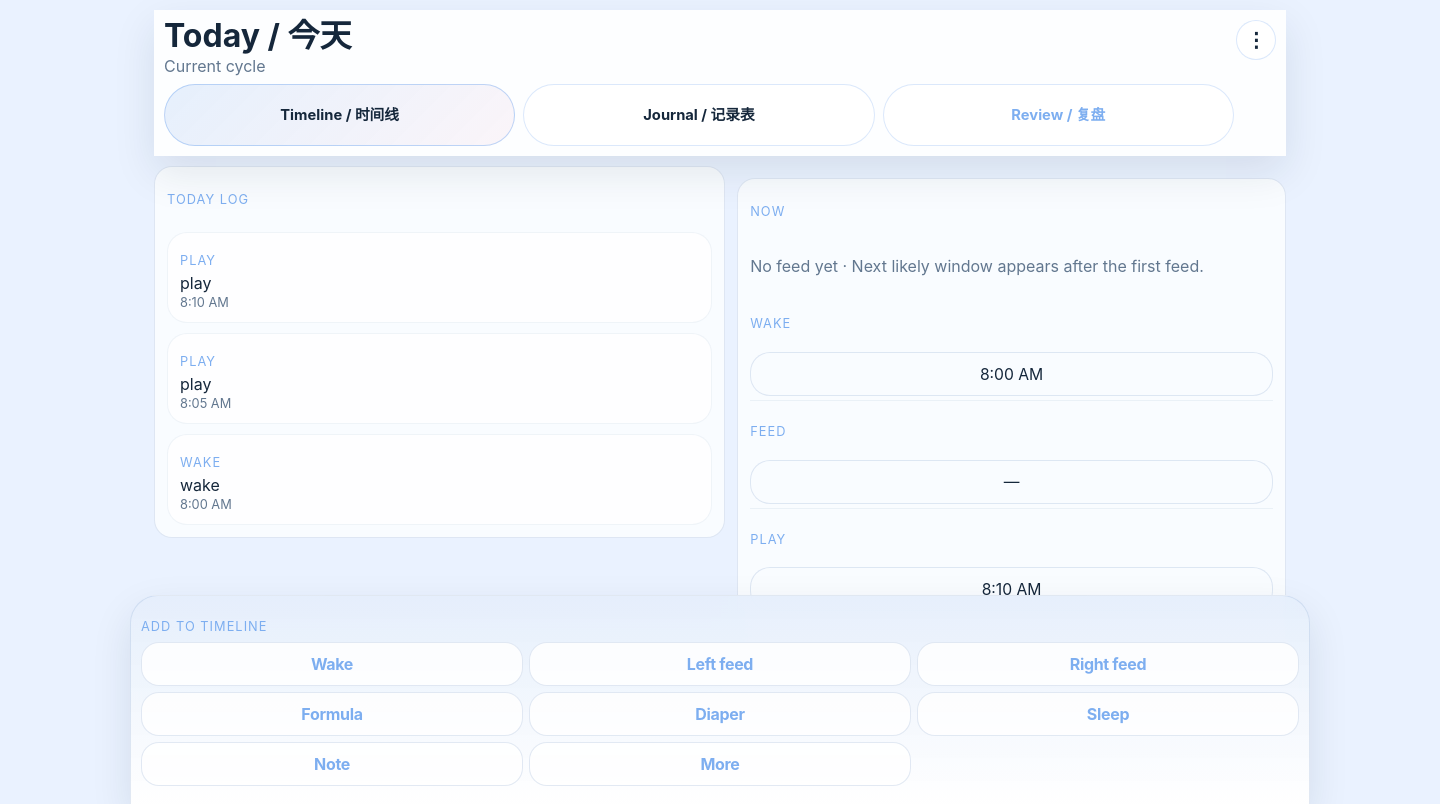
Test: correction merge parity › merge duplicate from Compact updates Timeline and Compact projections
Expected: the element with test id "journal-summary-startOfPlayTime" does not show "—"
Click the heading with test id "today-overflow-menu-toggle": (1256, 40) left=1236, top=20, right=1276, bottom=60
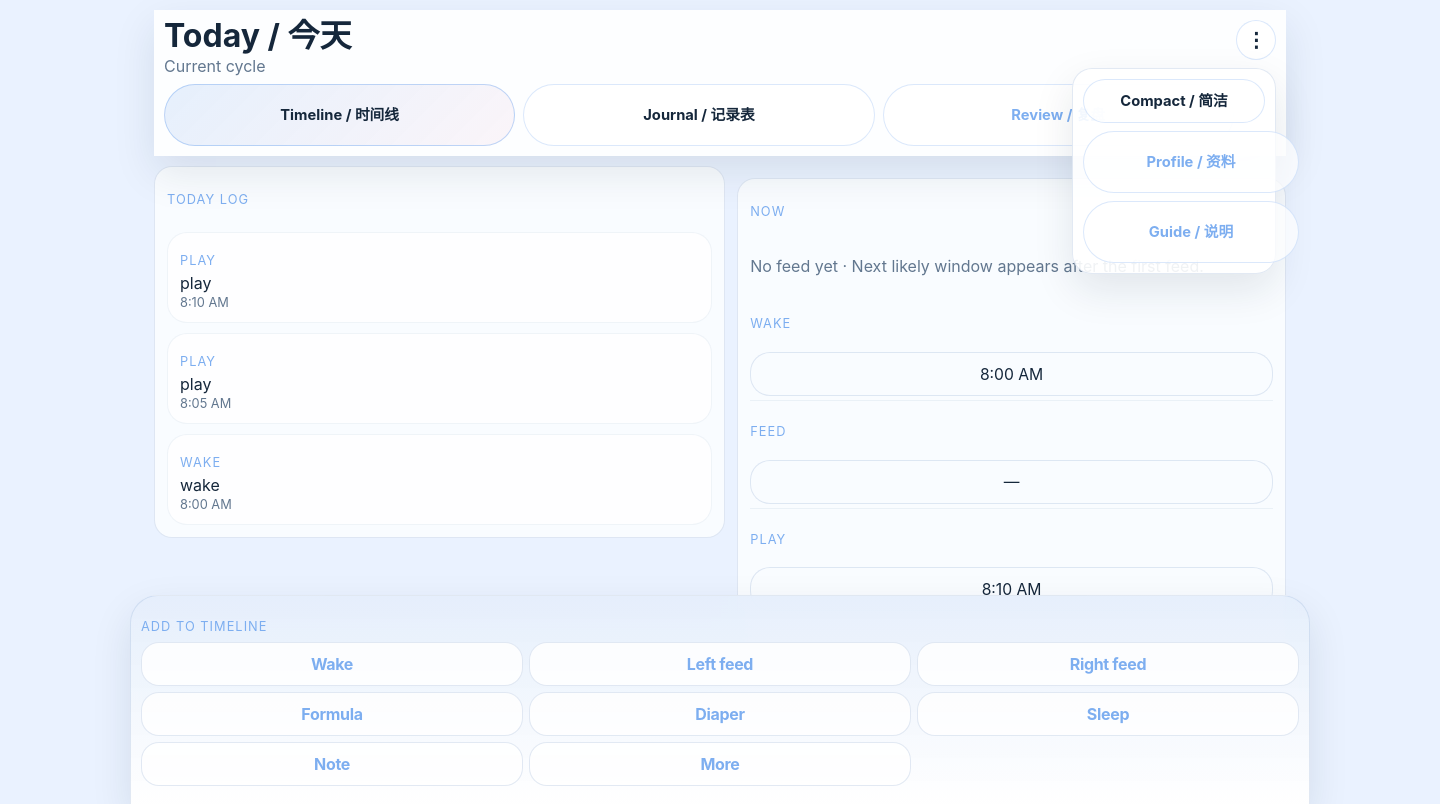
Click the button "Compact / 简洁": (1174, 101) left=1083, top=79, right=1265, bottom=123
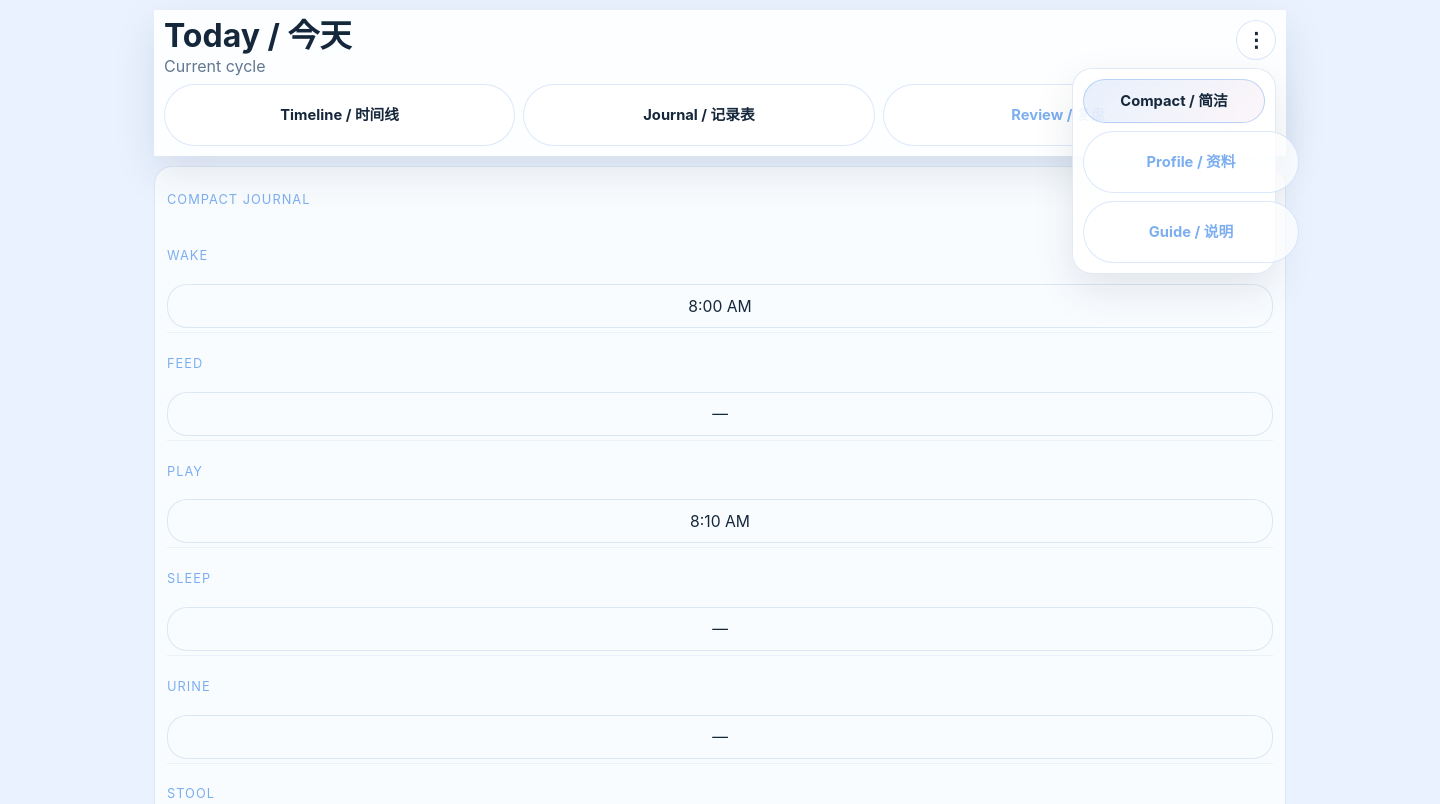
Click the button with test id "journal-summary-startOfPlayTime": (720, 521) left=167, top=499, right=1273, bottom=543
(page scrolled)
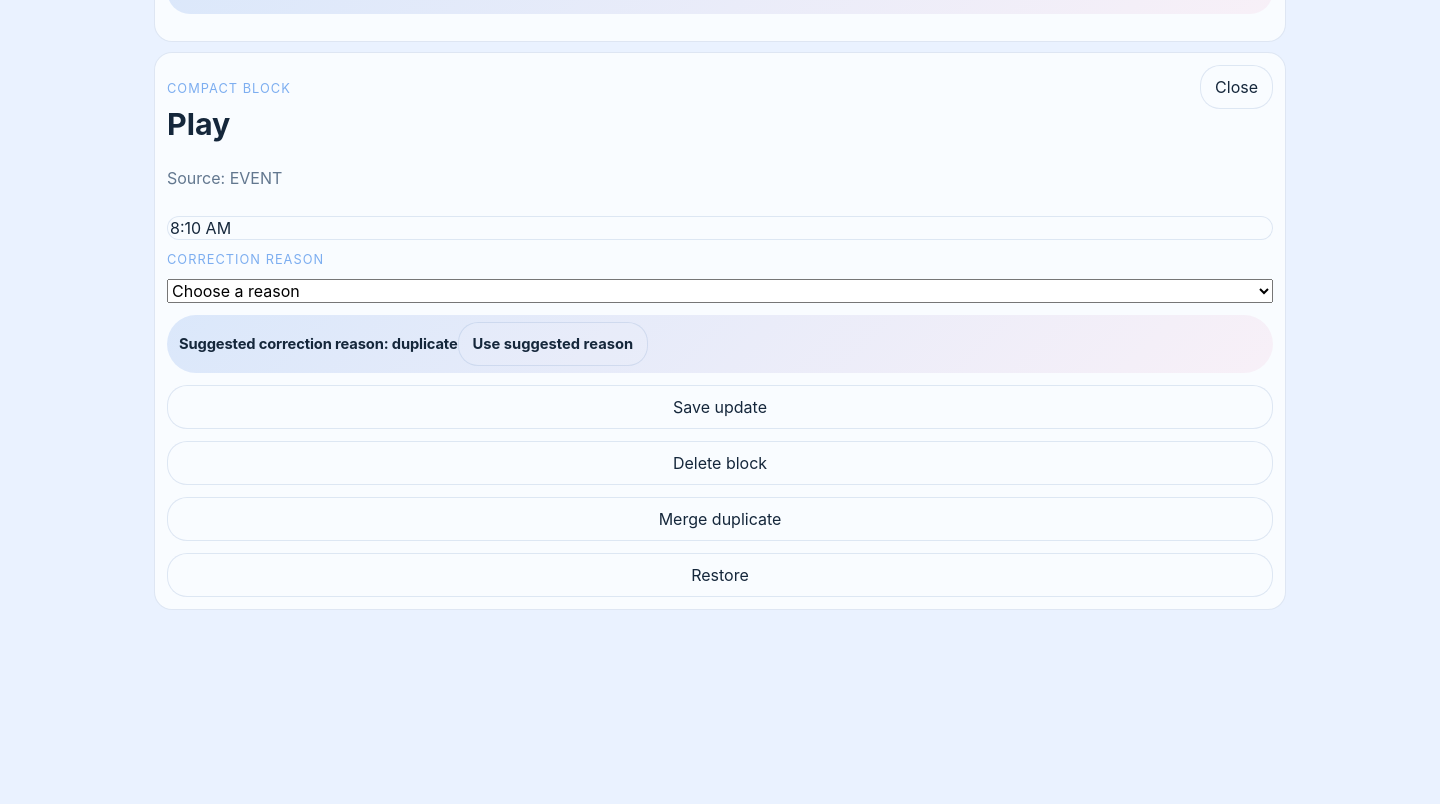
Now the element with test id "compact-block-detail-sheet" is shown, box left=154, top=52, right=1286, bottom=610
Click the button "Merge duplicate": (720, 519) left=167, top=497, right=1273, bottom=541
(page scrolled)
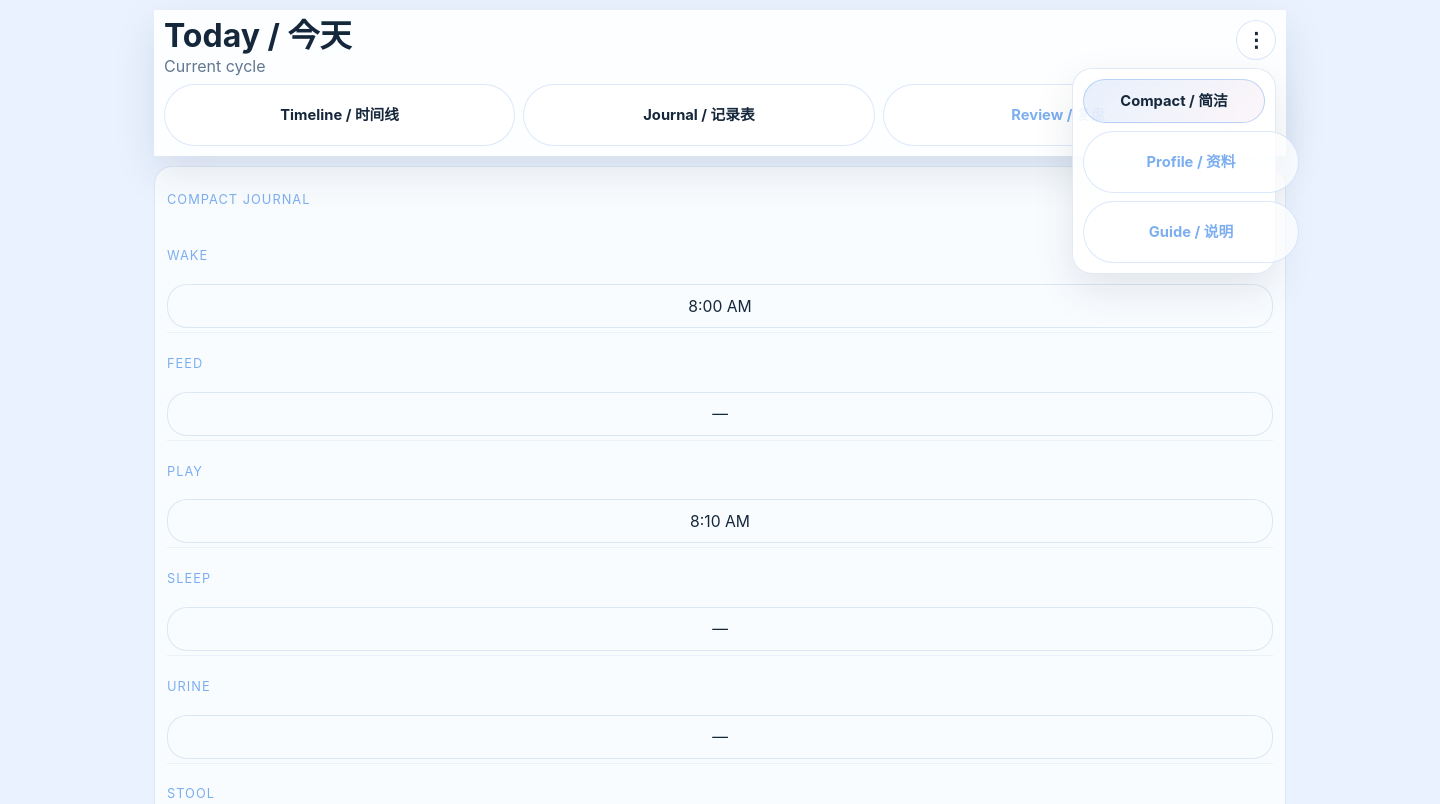
Click the button "Timeline / 时间线": (340, 115) left=164, top=84, right=515, bottom=146
(page scrolled)
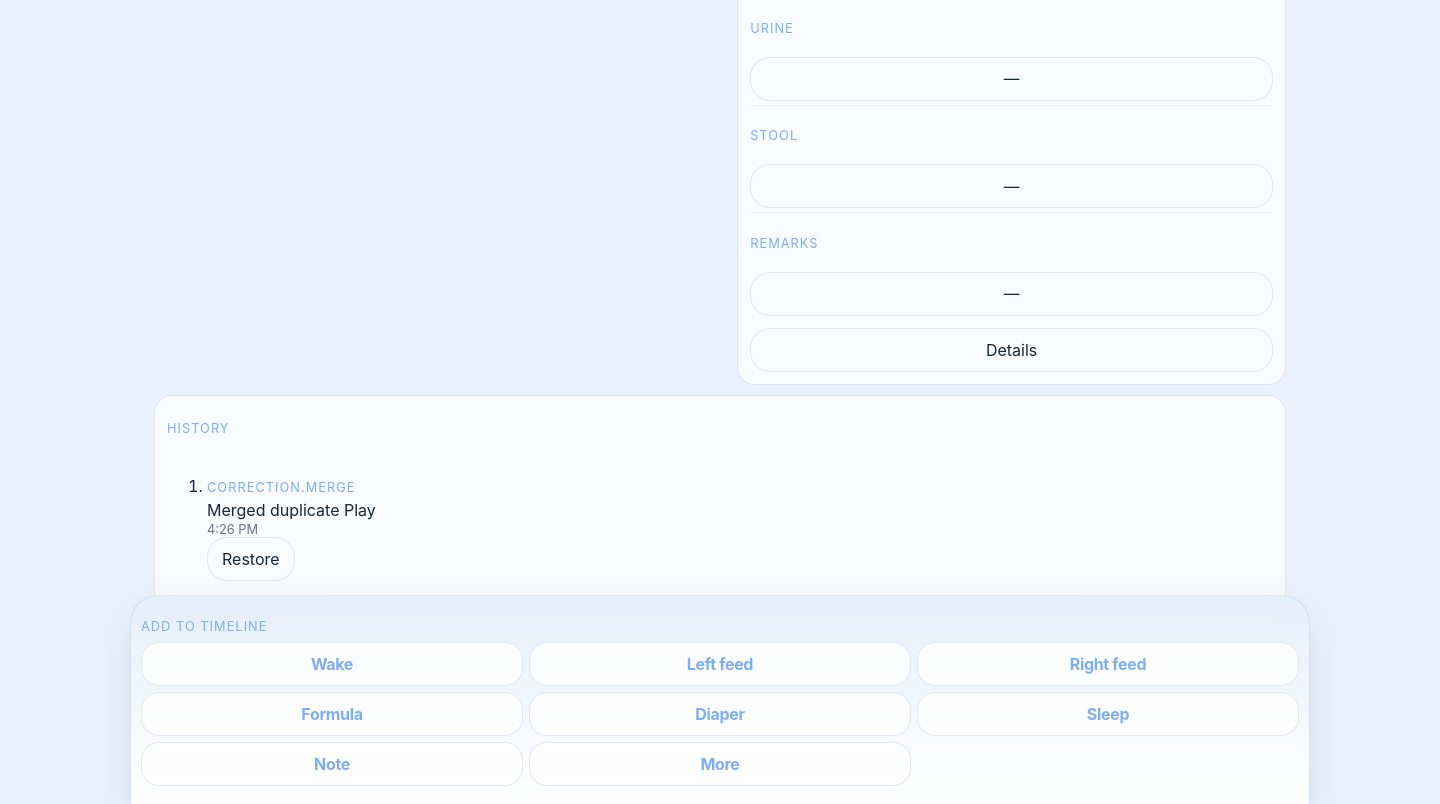
Now the list with test id "correction-history-items" shows "correction.merge", box left=207, top=480, right=356, bottom=495
